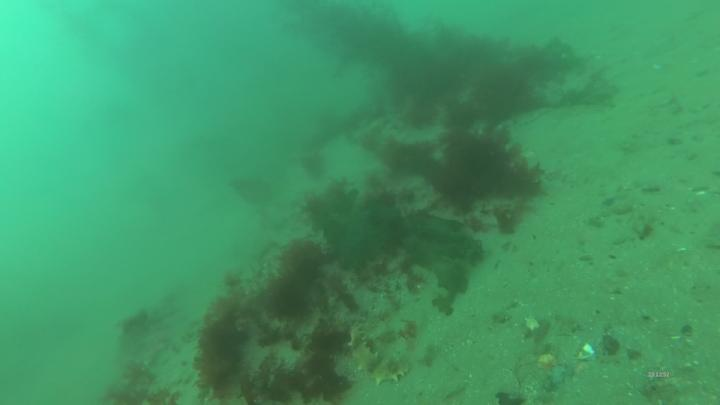holothurian: (374, 344, 421, 385), (347, 322, 381, 375)
waterweeds: (201, 4, 554, 405)
